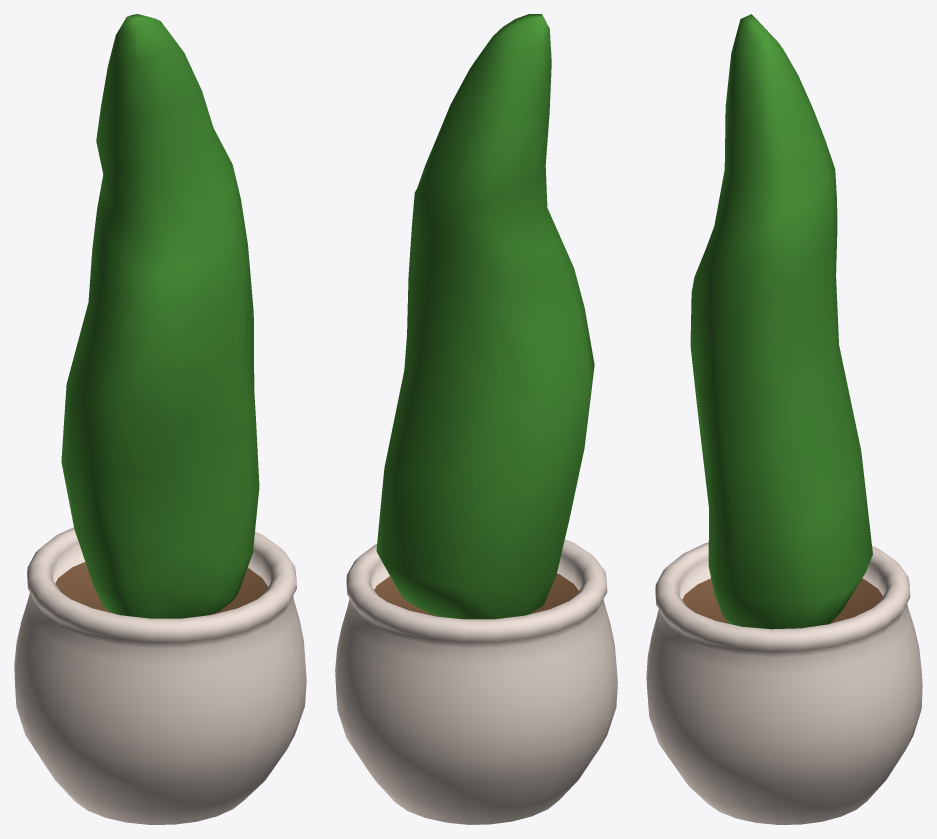
Rendered from Tree_1.glb.
3 views of the same model, side by side, from view 1: azimuth 30°, elevation 25°; view 2: azimuth 150°, elevation 25°; view 3: azimuth 270°, elevation 25° (orthographic). The views are drawn at different scales.
Visible parts, largest first — view 1: Tree_1; view 2: Tree_1; view 3: Tree_1.
Part boxes in pixels (x1=…): Tree_1: x1=14, y1=14, x2=306, y2=824; Tree_1: x1=335, y1=14, x2=617, y2=824; Tree_1: x1=646, y1=14, x2=922, y2=824.
Size of the model in its own units: 0.6134 by 1.85 by 0.6134.
1 material, 1 textured.
